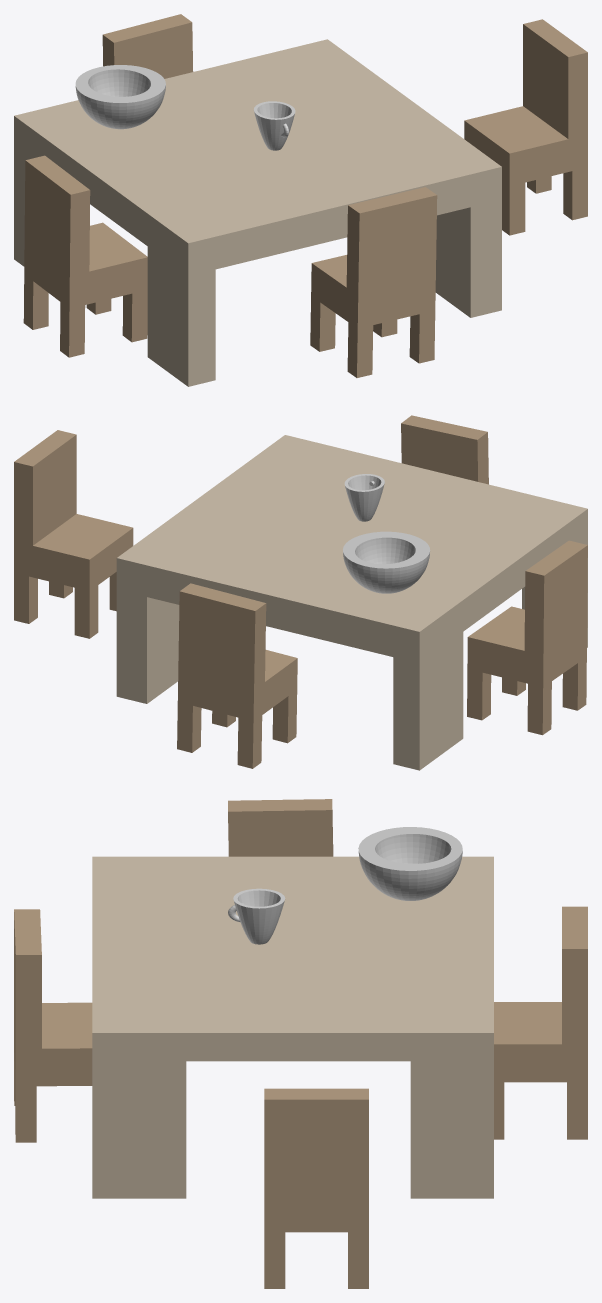
Rendered from CoffeeTableModel1.glb.
The picture shows the model from 3 angles, top to bottom: view 1: azimuth 30°, elevation 25°; view 2: azimuth 150°, elevation 25°; view 3: azimuth 270°, elevation 25°; orthographic projection. The views are drawn at different scales.
Parts seen in each view (by area): view 1: Mesh_Mesh_head_geo.001_lambert2SG.001; view 2: Mesh_Mesh_head_geo.001_lambert2SG.001; view 3: Mesh_Mesh_head_geo.001_lambert2SG.001.
Part boxes in pixels (box(x1,y1,x2,y2)): Mesh_Mesh_head_geo.001_lambert2SG.001: box(14, 14, 587, 386); Mesh_Mesh_head_geo.001_lambert2SG.001: box(14, 415, 587, 770); Mesh_Mesh_head_geo.001_lambert2SG.001: box(14, 799, 587, 1288).
Size of the model in its own units: 136 by 45.17 by 110.
